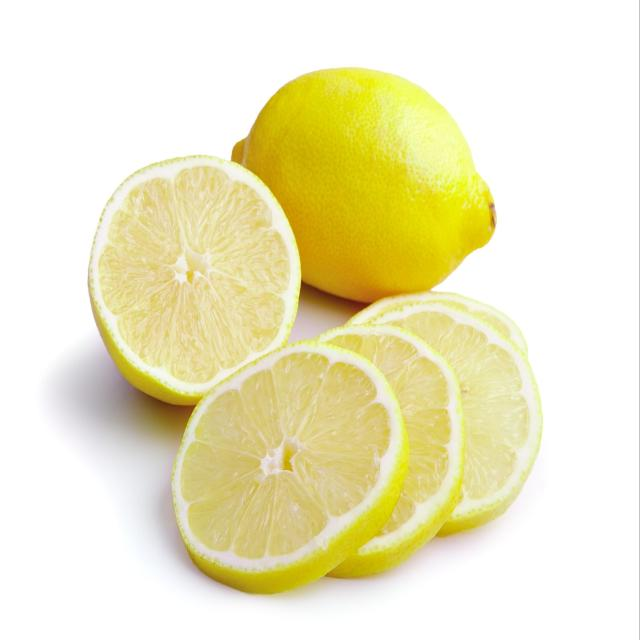lemon: (228, 64, 503, 310), (86, 149, 304, 408)
